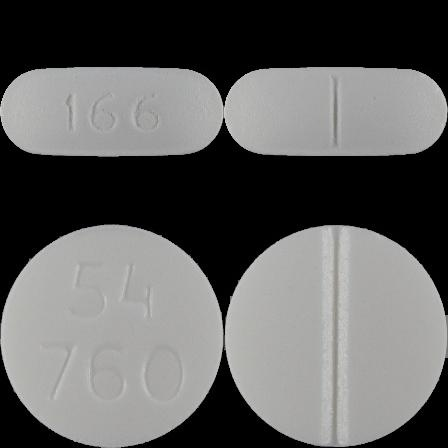10544-124: (0, 0, 224, 224)
